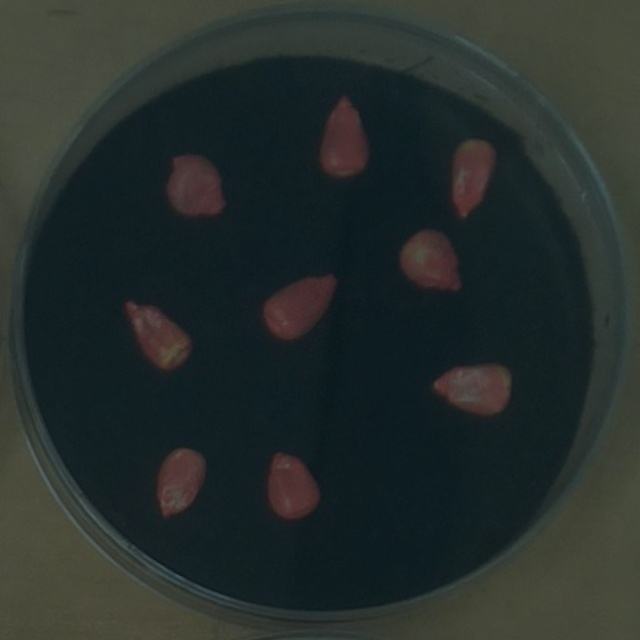Zea mays: (253, 261, 347, 351), (115, 291, 199, 380), (424, 353, 518, 424), (309, 86, 377, 184), (157, 146, 236, 228), (441, 128, 505, 226), (256, 442, 329, 527), (391, 221, 470, 298), (148, 438, 216, 523)
